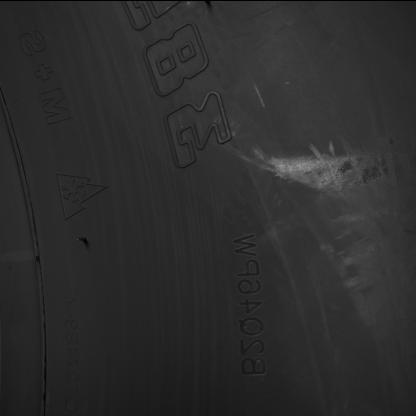ocr: (230, 233, 268, 375)
